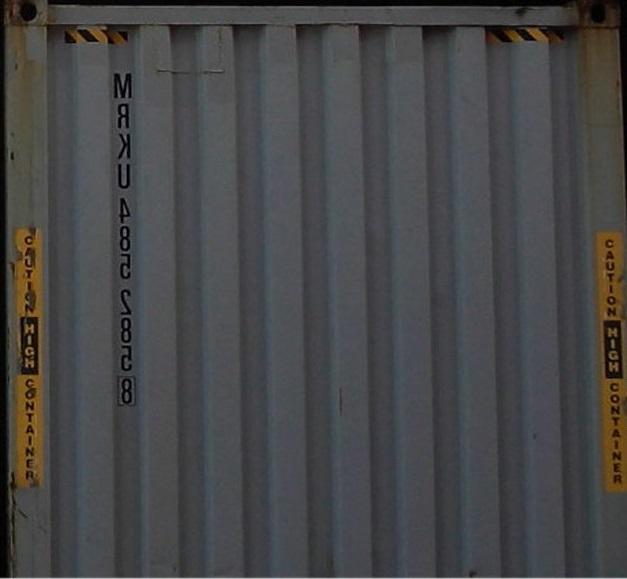container_no_door: (13, 1, 618, 566)
